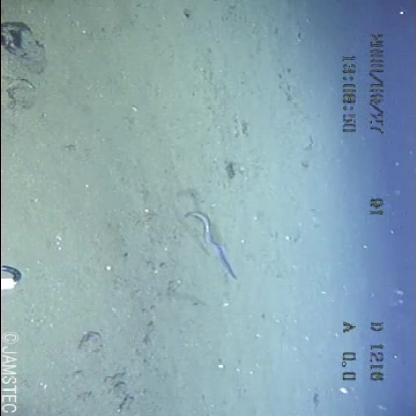Bio: (176, 206, 246, 283)
